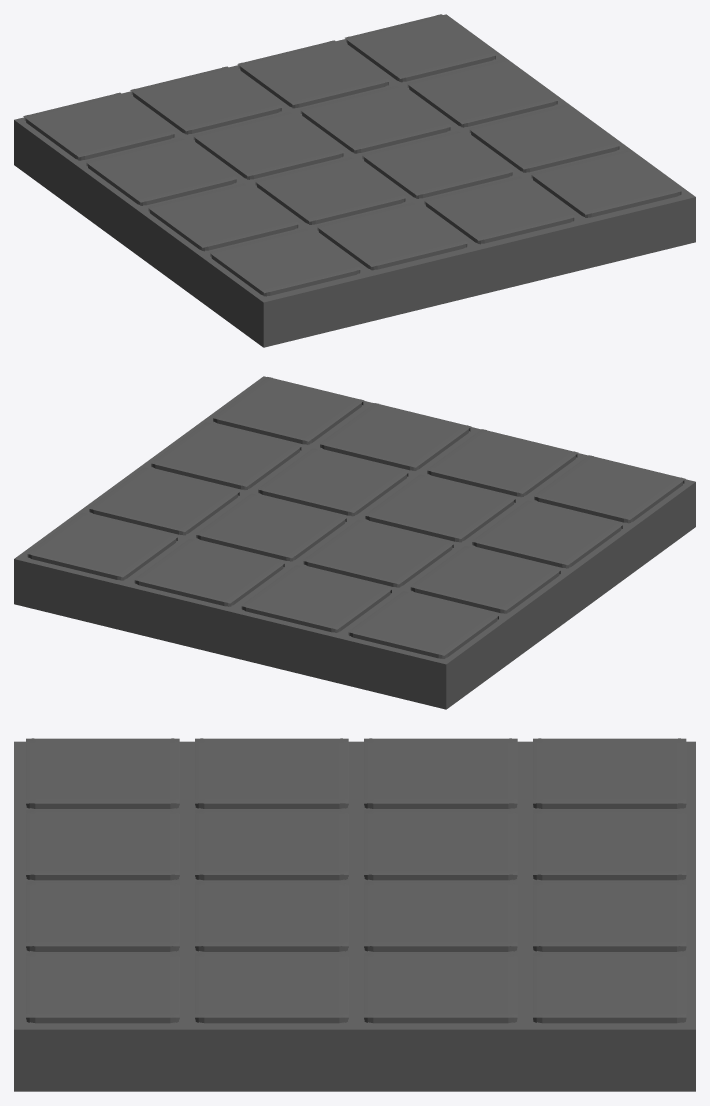
File: Floor.fbx
3 views of the same model, one above another, from view 1: azimuth 30°, elevation 25°; view 2: azimuth 150°, elevation 25°; view 3: azimuth 270°, elevation 25° (orthographic). The views are drawn at different scales.
Visible parts, largest first — view 1: FloorTile; view 2: FloorTile; view 3: FloorTile.
Part boxes in pixels (box(x1,y1,x2,y2)): FloorTile: box(14, 14, 695, 347); FloorTile: box(14, 376, 695, 709); FloorTile: box(14, 738, 695, 1091).
Size of the model in its own units: 200 by 22.2 by 200.
